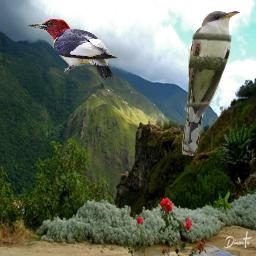Cuckoo: (182, 10, 241, 156)
Woodpecker: (28, 19, 117, 82)
